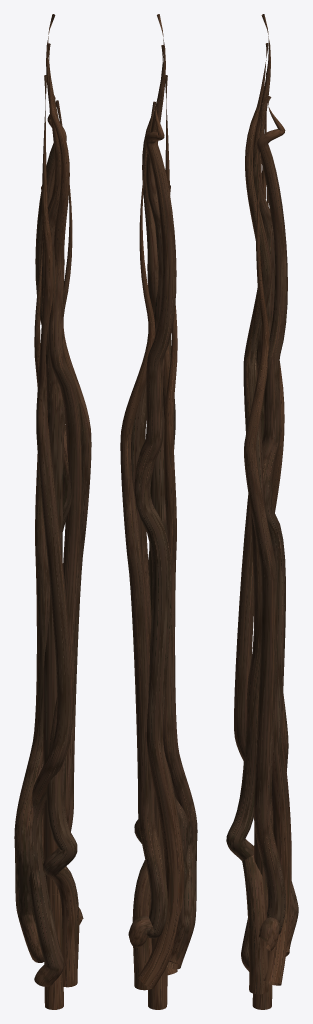
Rendered from rootSpike.fbx.
The picture shows the model from 3 angles, left to right: view 1: azimuth 30°, elevation 25°; view 2: azimuth 210°, elevation 25°; view 3: azimuth 270°, elevation 25°; orthographic projection.
Visible parts, largest first — view 1: BezierCurve.002; view 2: BezierCurve.002; view 3: BezierCurve.002.
Part boxes in pixels (x1,y1,x2,y2): BezierCurve.002: (14,14,91,1009); BezierCurve.002: (120,14,197,1009); BezierCurve.002: (226,14,298,1009).
Bounding box in the file's own units: 6.55 × 92.93 × 6.14.
